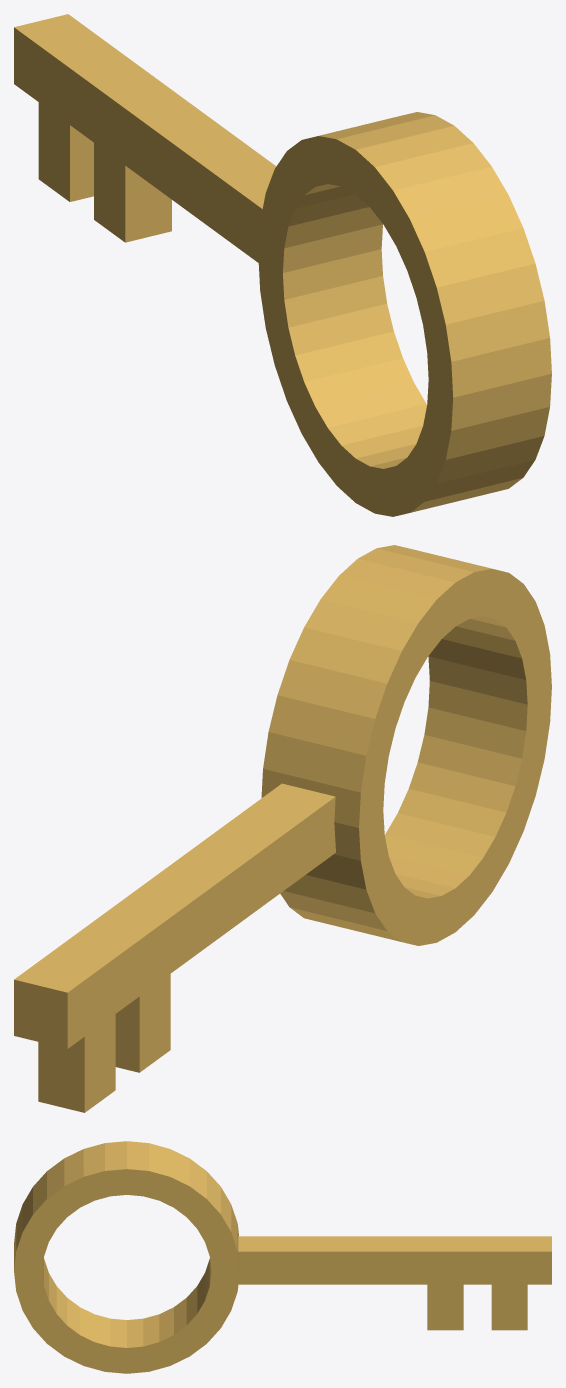
Rendered from Key.fbx.
The picture shows the model from 3 angles, top to bottom: view 1: azimuth 30°, elevation 25°; view 2: azimuth 150°, elevation 25°; view 3: azimuth 270°, elevation 25°; orthographic projection. The views are drawn at different scales.
Parts seen in each view (by area): view 1: Circle; view 2: Circle; view 3: Circle.
Part boxes in pixels (x1=…): Circle: x1=14, y1=14, x2=551, y2=516; Circle: x1=14, y1=545, x2=551, y2=1112; Circle: x1=14, y1=1141, x2=551, y2=1373.
Size of the model in its own units: 18.61 by 63.58 by 151.
